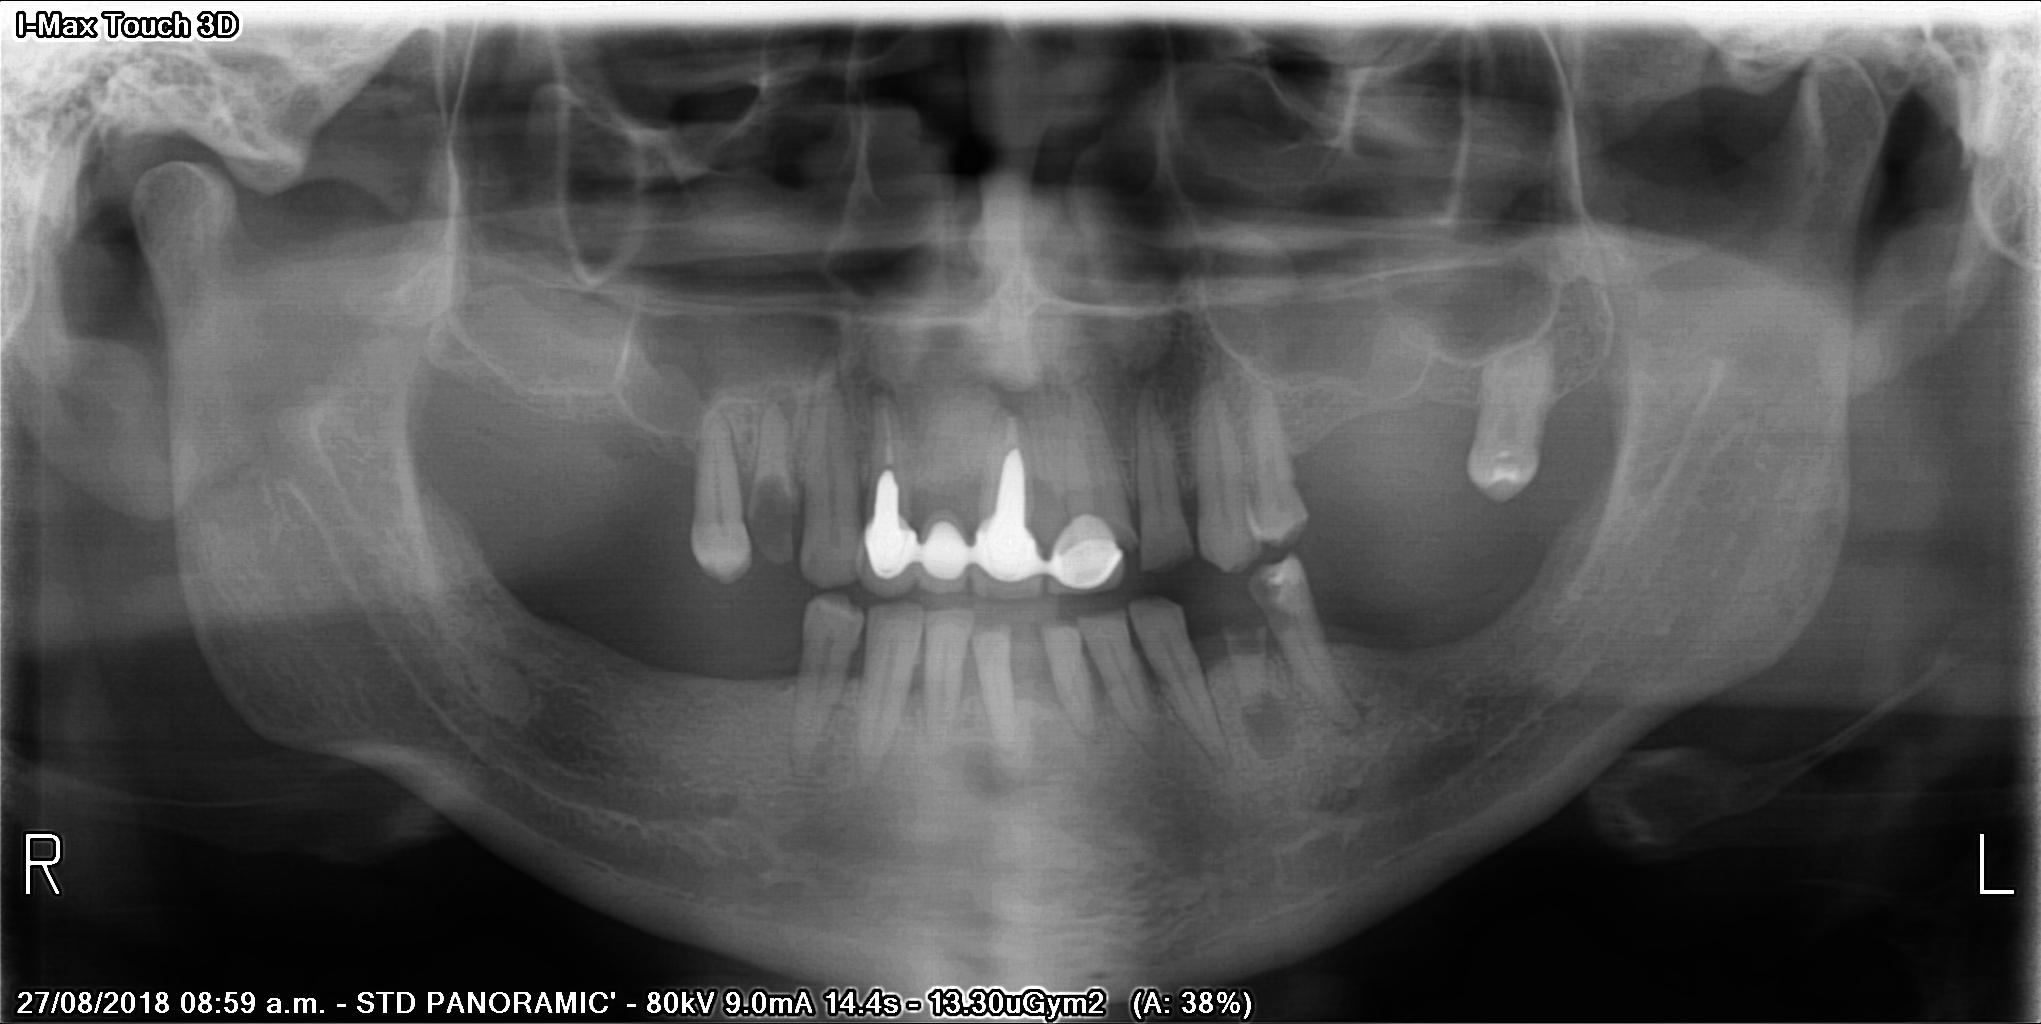Çürük: (973, 434, 1042, 590), (861, 451, 921, 583), (1050, 503, 1127, 597)
Çürük Bölgesi: (750, 465, 800, 575), (1252, 579, 1291, 637)
